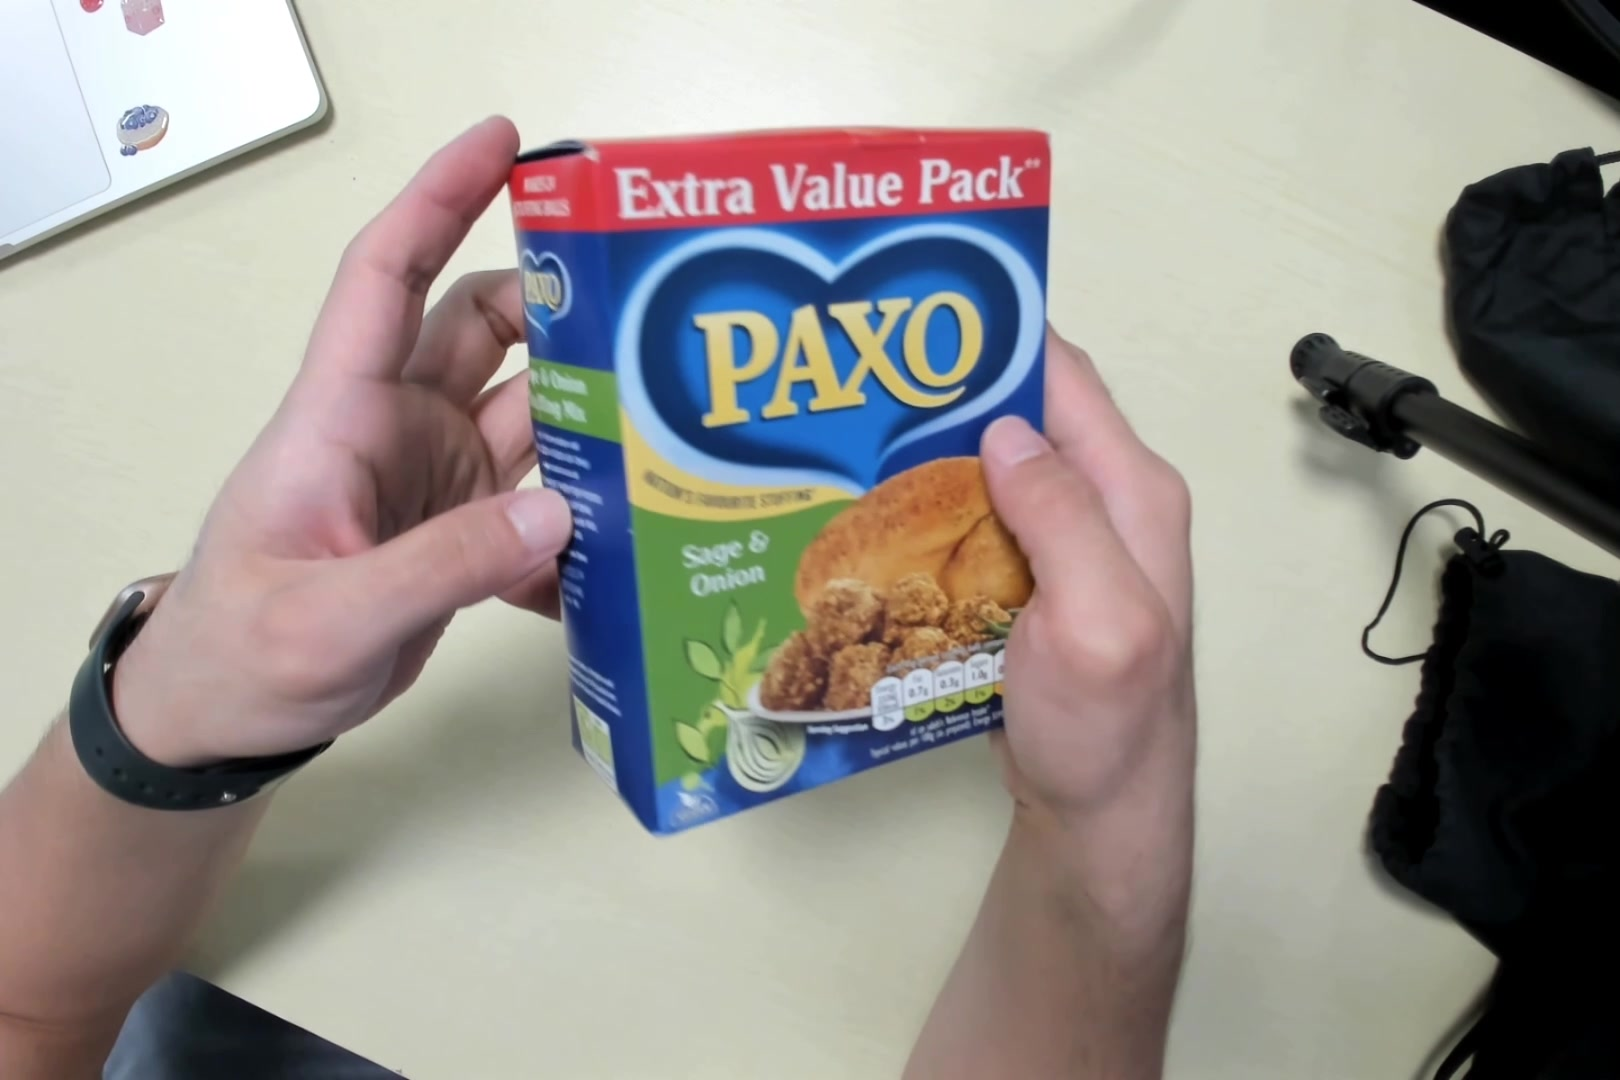OtherBakingNeeds_300-399g_NonHalal_NonHealthy: (510, 125, 1047, 839)
